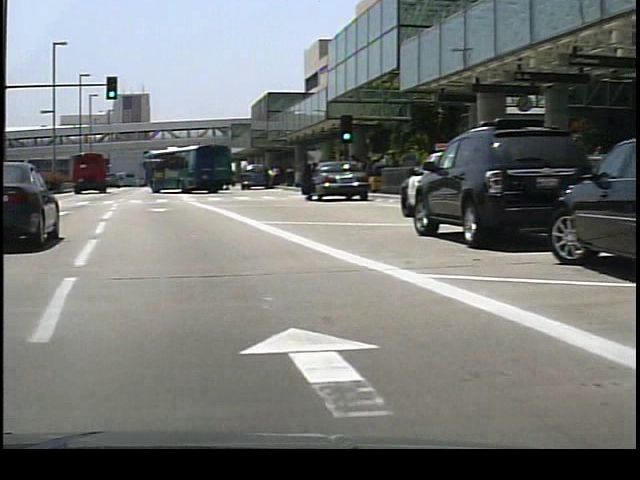person: (261, 165, 272, 189)
